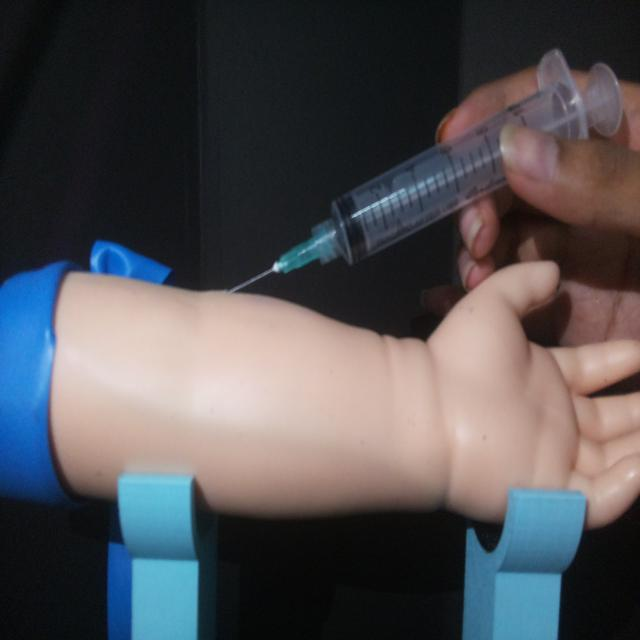22deg: (226, 54, 620, 296)
